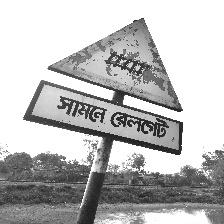Rail-crossing: (24, 17, 185, 157)
